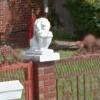Statue: (17, 13, 67, 67)
